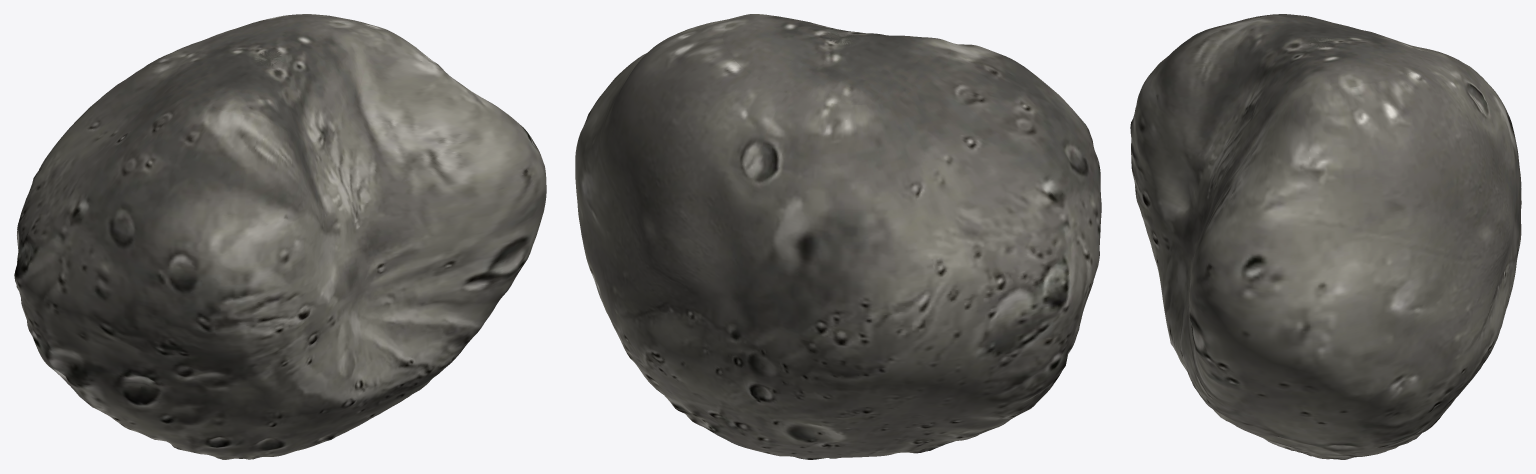
The model's file is deimos.glb.
3 renders of one model, left to right at view 1: azimuth 30°, elevation 25°; view 2: azimuth 150°, elevation 25°; view 3: azimuth 270°, elevation 25°, orthographic. The views are drawn at different scales.
Parts seen in each view (by area): view 1: deimos; view 2: deimos; view 3: deimos.
Part boxes in pixels (<box>): deimos: <box>14,14,546,459</box>; deimos: <box>575,14,1101,459</box>; deimos: <box>1130,14,1521,459</box>.
Size of the model in its own units: 15.01 by 11.87 by 10.51.
1 material, 1 textured.
